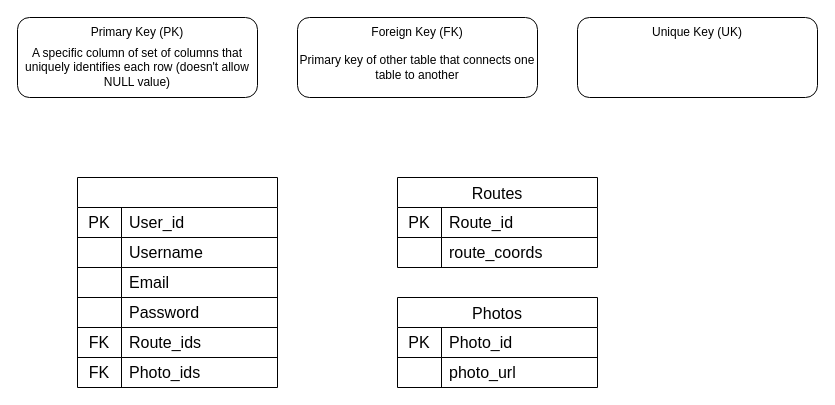
Image size: 835x405. Some labels were removed from this diagram. The box of each missing label's shape, as (x1, y1, x2, y2) in pixels:
User/Admin: (76, 176, 278, 388)
Works like a primary key but allows NULL value.: (576, 16, 818, 98)
